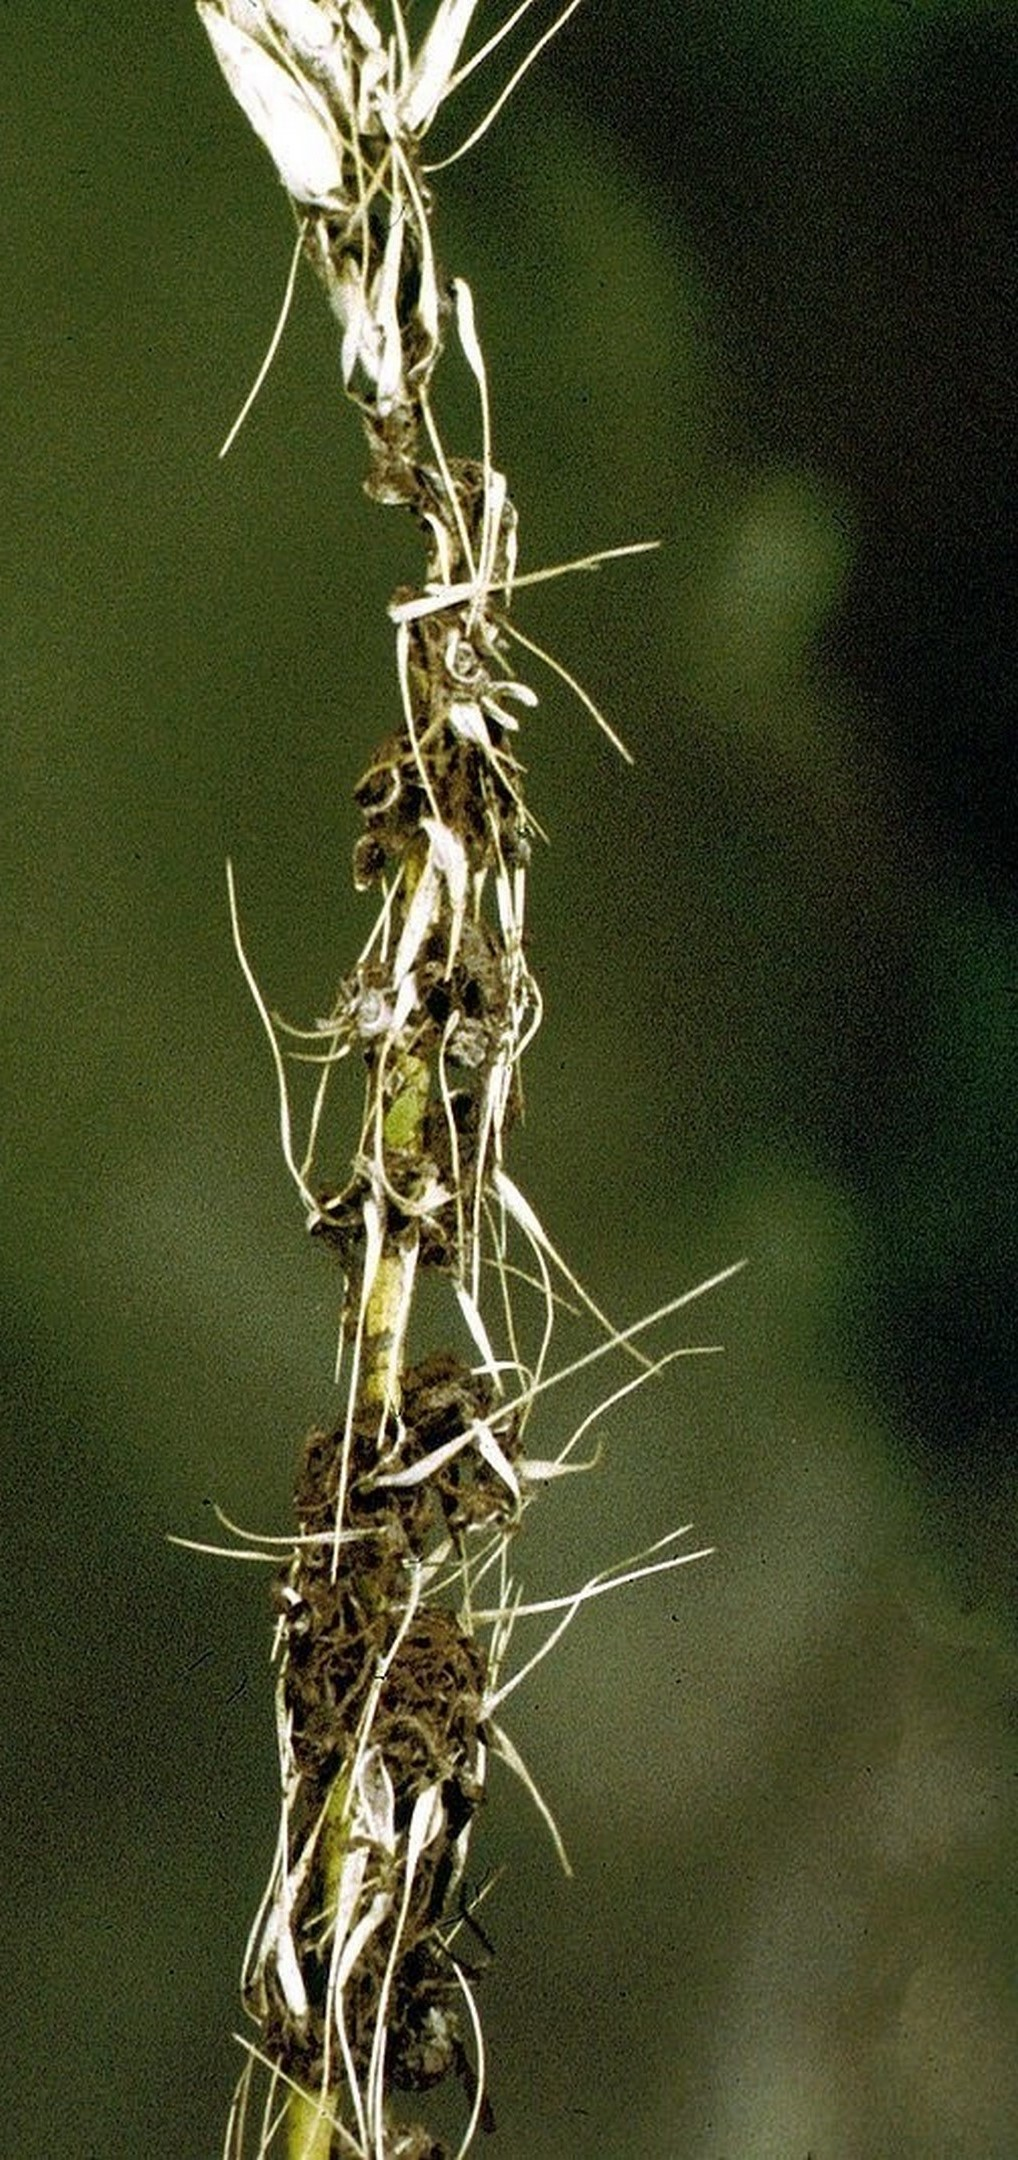Wheat Loose Smut: (225, 129, 590, 2160)
